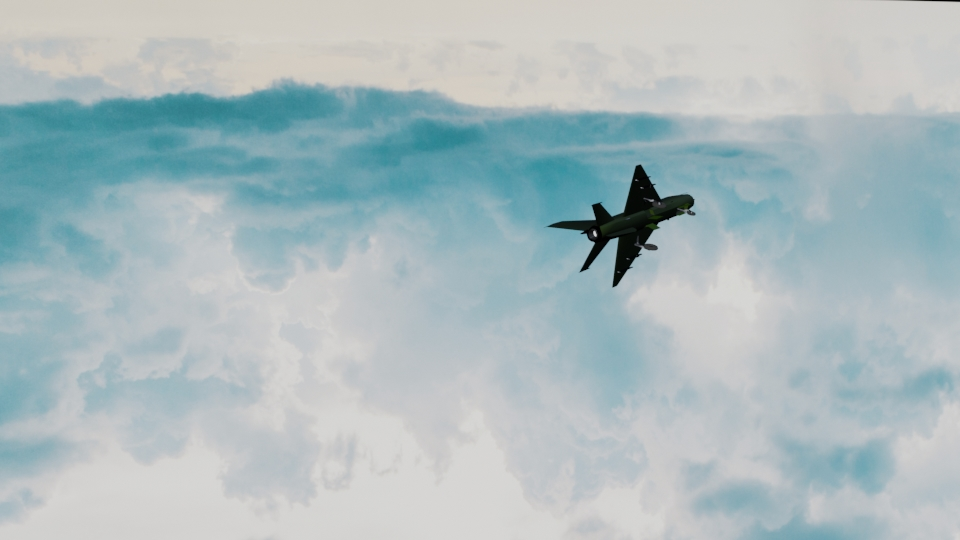plane: (545, 164, 704, 287)
